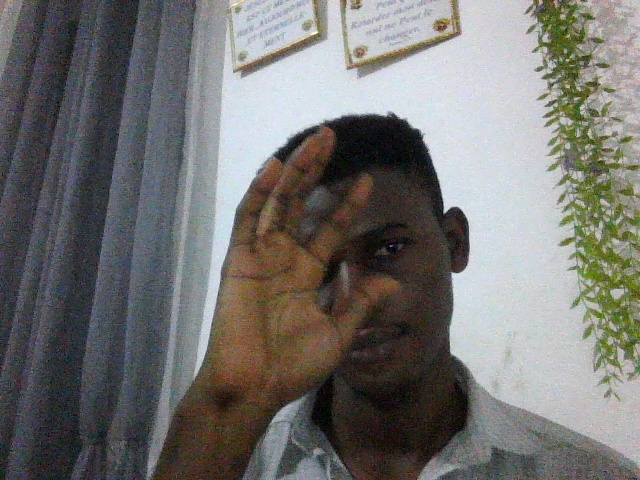hand: (210, 130, 394, 405)
